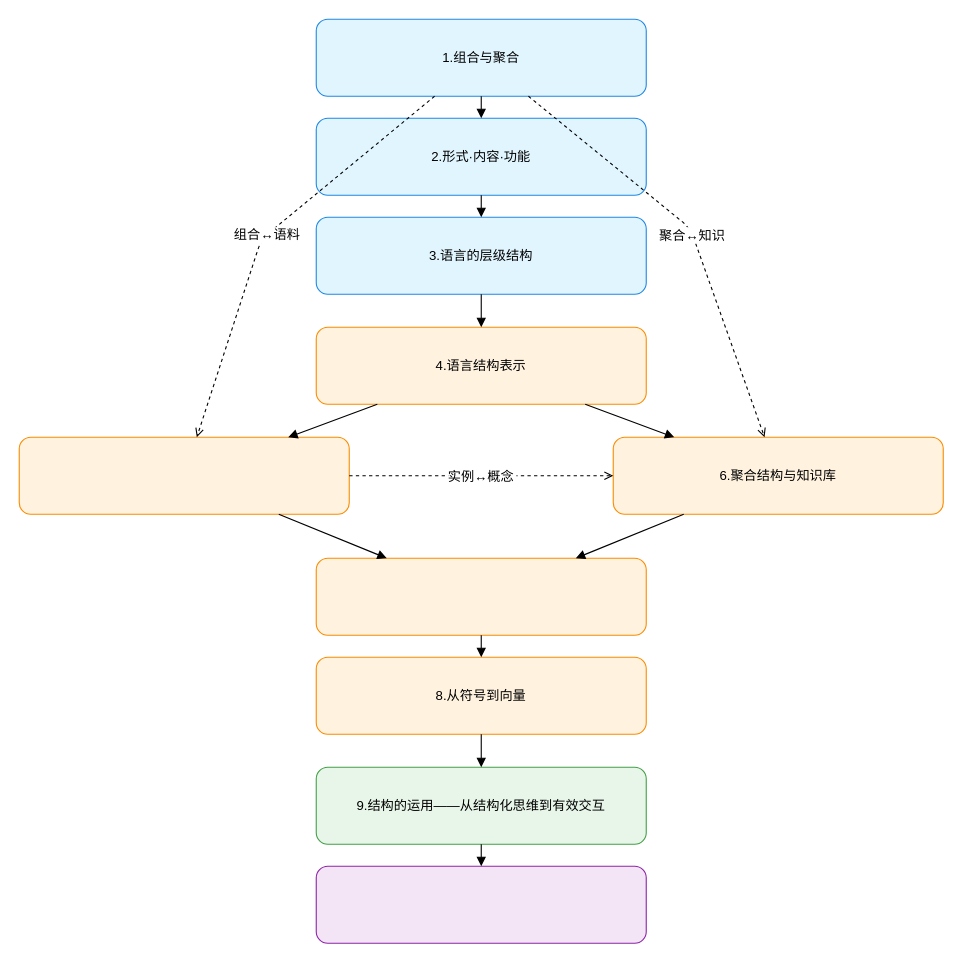
Some shapes in this 963 by 963 pixel diagram are drawn without their labels. Each missing label, with the centre of its shape:
10.理性结构与经验结构: the point at 480,904
5.组合结构与语料库: the point at 183,475
7.结构的处理与转换: the point at 480,596
